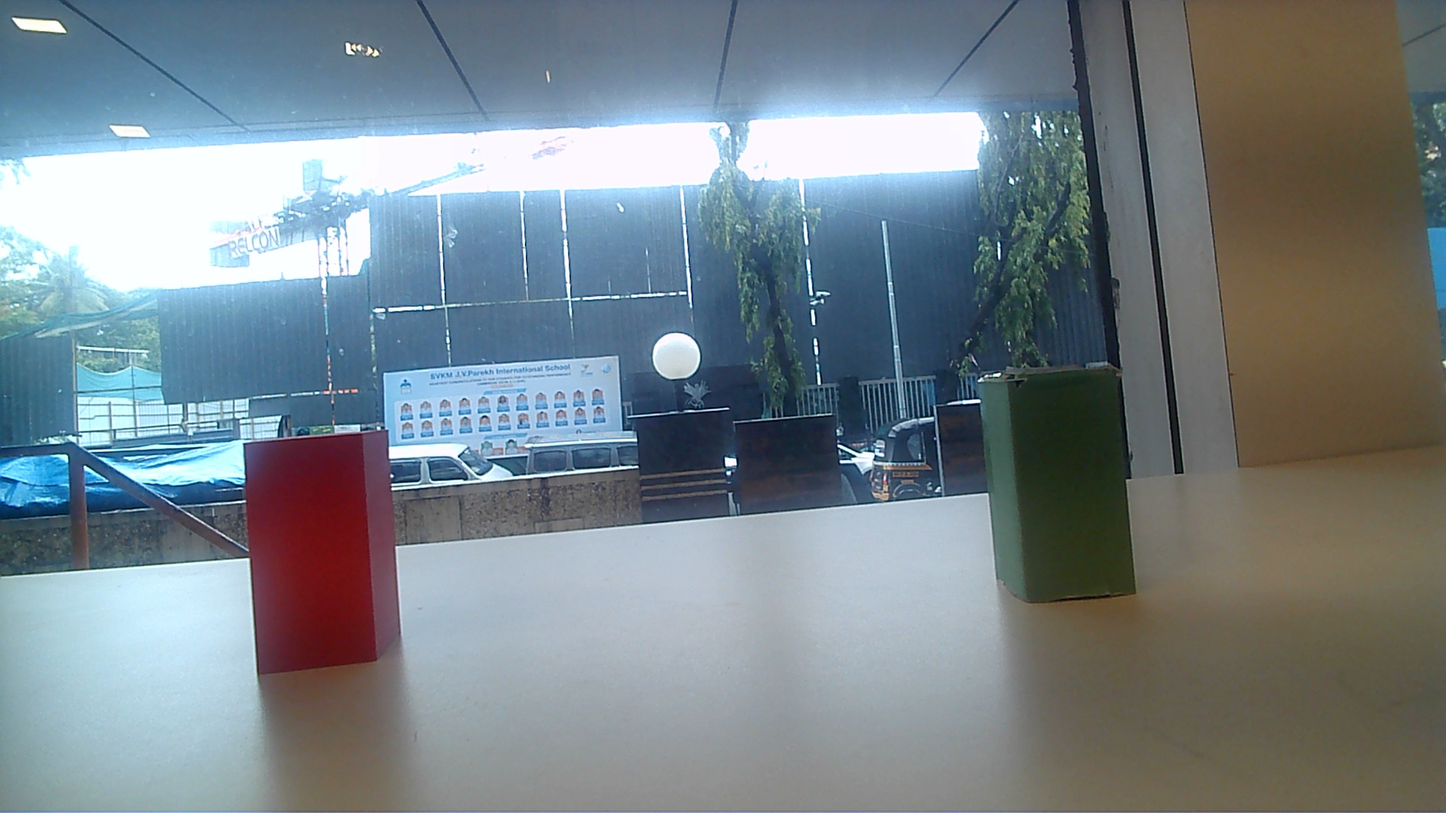green: (993, 366, 1124, 610)
